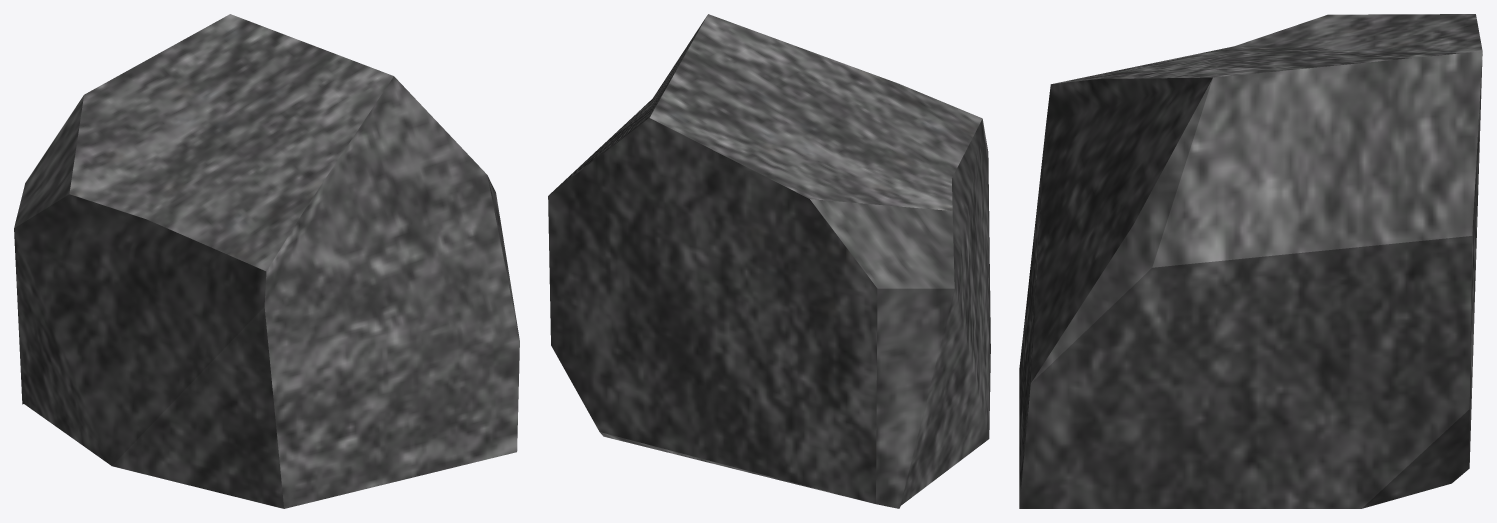
The model's file is Stone03.fbx.
The picture shows the model from 3 angles, left to right: view 1: azimuth 30°, elevation 25°; view 2: azimuth 150°, elevation 25°; view 3: azimuth 270°, elevation 25°; orthographic projection. The views are drawn at different scales.
Visible parts, largest first — view 1: Stone03; view 2: Stone03; view 3: Stone03.
Part boxes in pixels (x1,y1,x2,y2): Stone03: (14,14,519,508); Stone03: (548,14,990,508); Stone03: (1019,14,1482,508).
Size of the model in its own units: 19.59 by 16.14 by 16.66.
